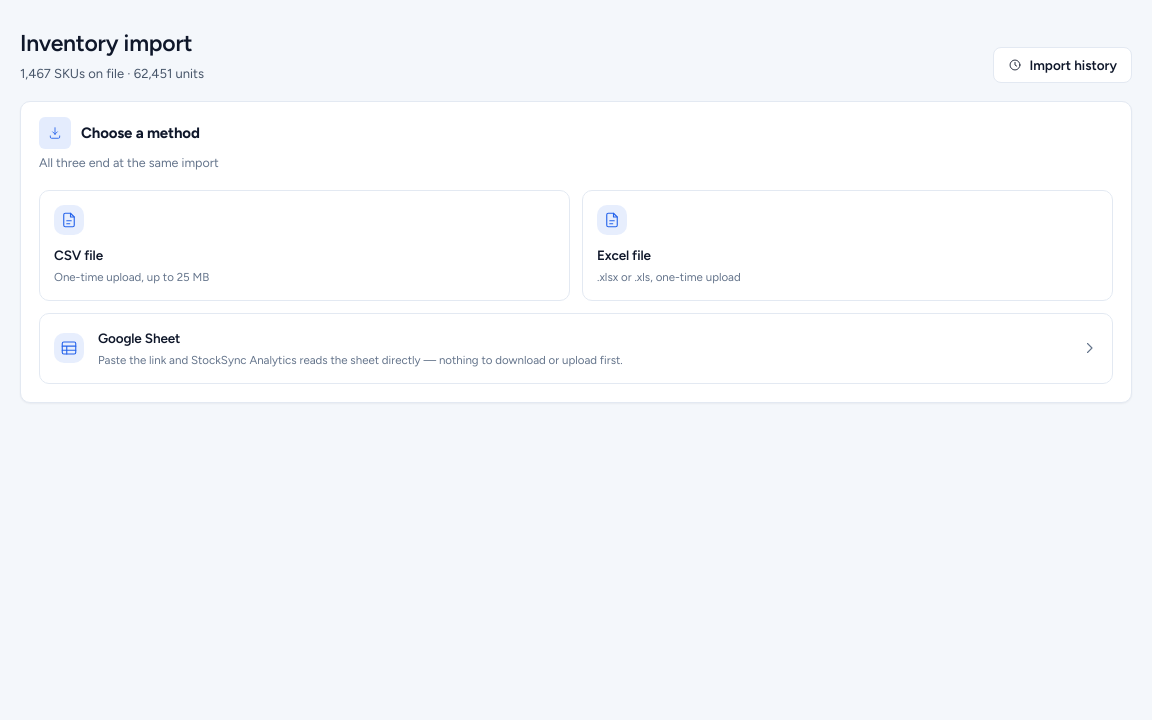
Test: choosing a method › Excel file asks for a SKU and nothing else
This screenshot has width=1152, height=720.
Expected: the heading "Choose a method" is shown, [81,122,200,144]
Click the button "Excel file .xlsx or .xls, one-time upload" at x=624, y=255, box [582,190,1113,301]
(page scrolled)
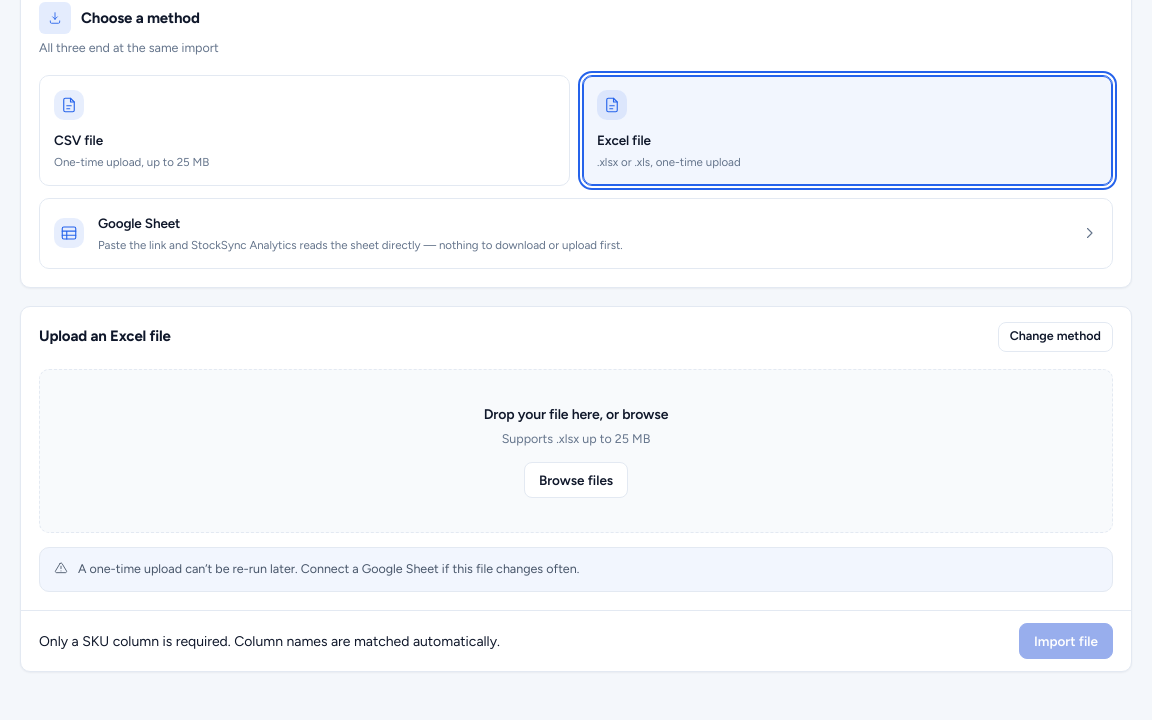
Expected: the text "Only a SKU column is required" is shown, [39,633,500,650]
